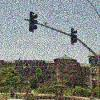traffic lights: (29, 12, 38, 33)
